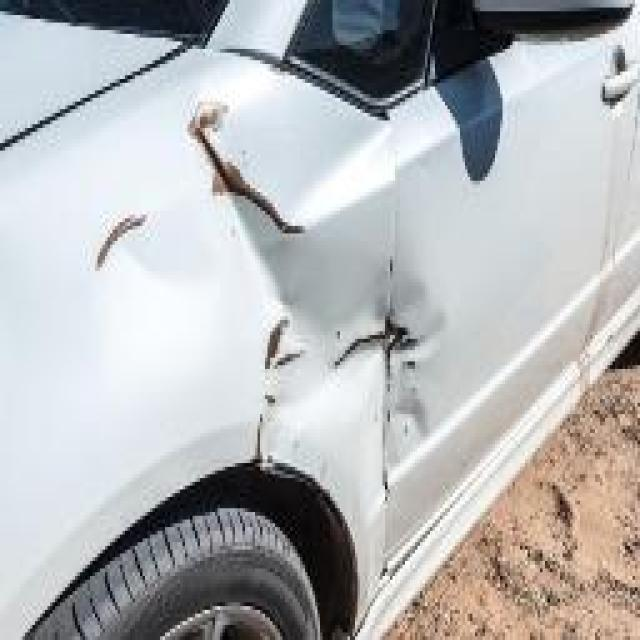Door: (390, 256, 480, 471)
Fender: (90, 87, 380, 546)
